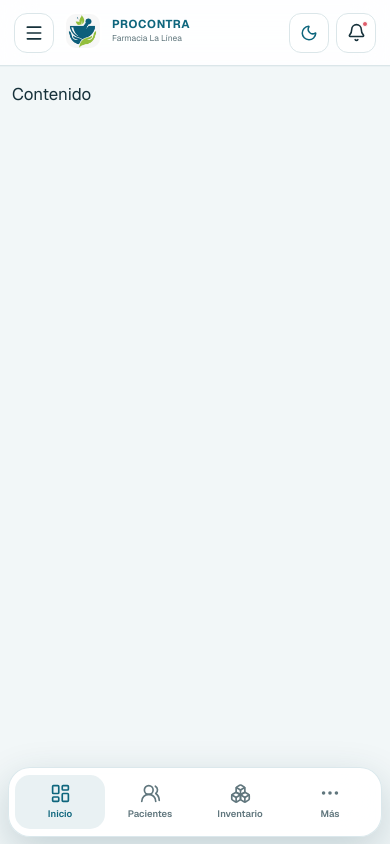
Test case: AppShell › opens the navigation drawer on small screens
The image size is (390, 844).
Click the button named "Abrir navegación" at (34,32), box top-left (14, 12), bottom-right (54, 52)
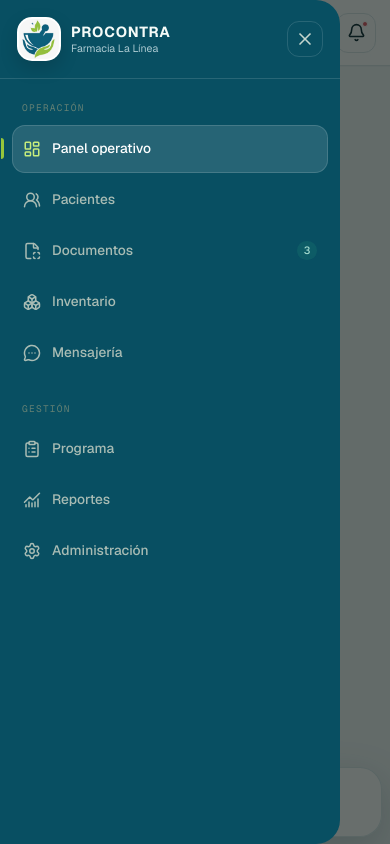
Check: the dialog named "Navegación principal" is shown
